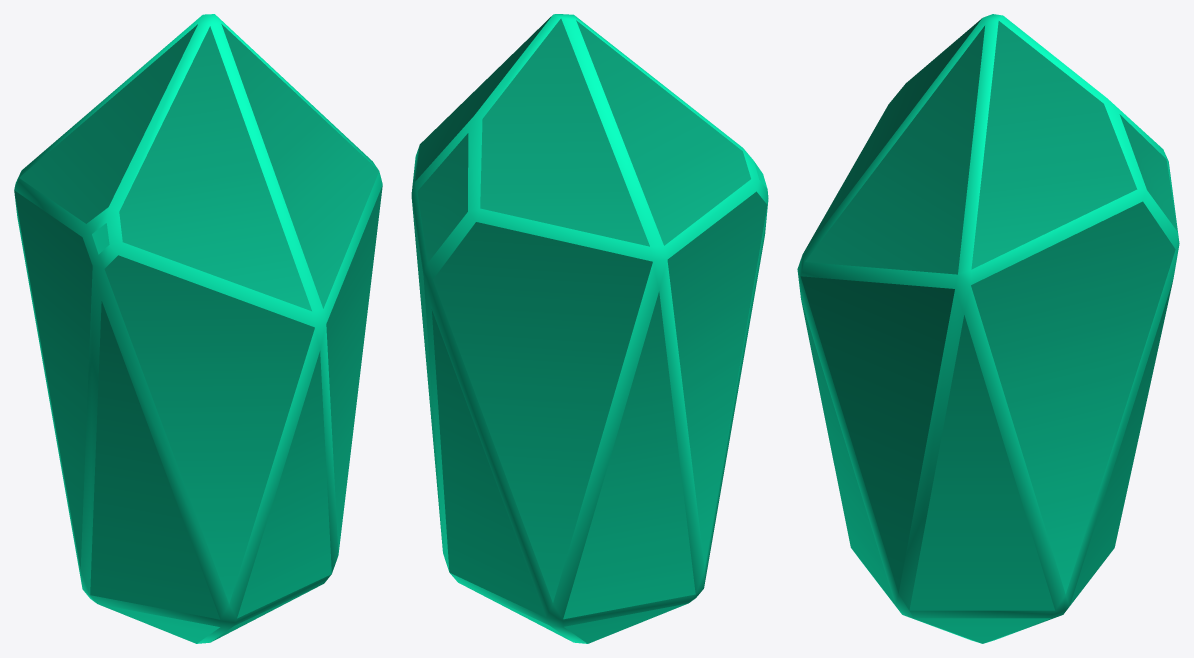
The model's file is Cristal_V2.fbx.
3 views of the same model, side by side, from view 1: azimuth 30°, elevation 25°; view 2: azimuth 150°, elevation 25°; view 3: azimuth 270°, elevation 25° (orthographic). The views are drawn at different scales.
Parts seen in each view (by area): view 1: Cristal_V2; view 2: Cristal_V2; view 3: Cristal_V2.
Boxes of the visible parts, <box> form: Cristal_V2: <box>14,14,382,643</box>; Cristal_V2: <box>411,14,768,643</box>; Cristal_V2: <box>797,14,1179,643</box>.
Size of the model in its own units: 1.51 by 1.55 by 2.82.
